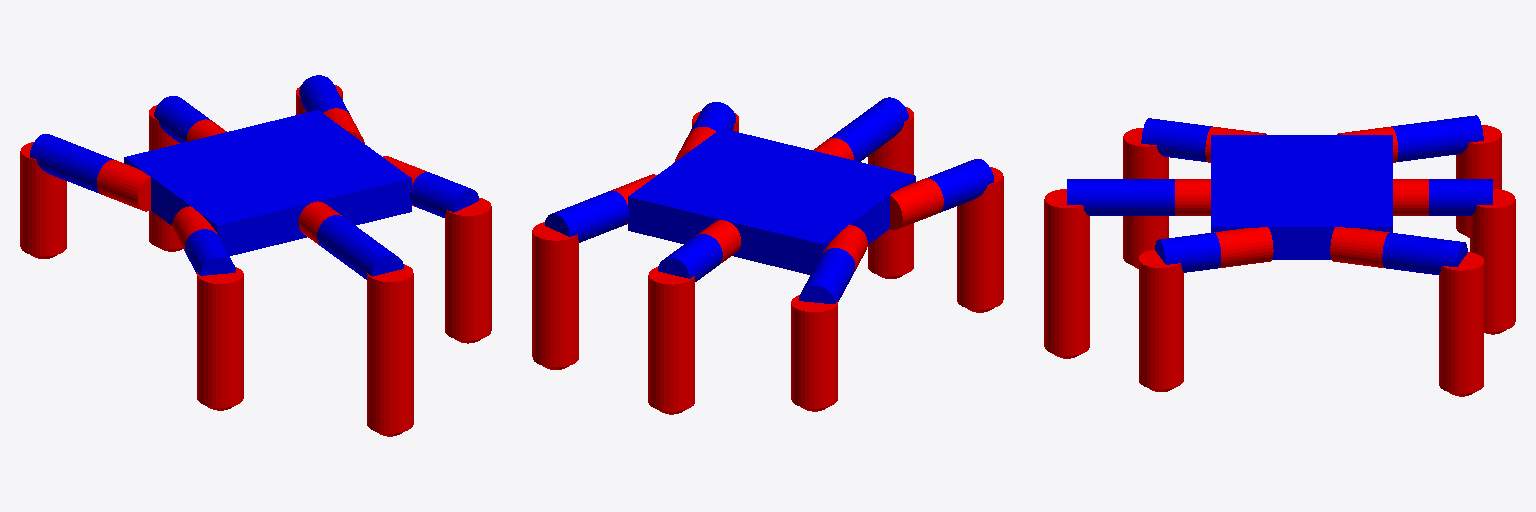
--- What the picture shows (computed from the rendered views, not written in the file) ---
3 views of the same robot in one strip: view 1: azimuth 30°, elevation 25°; view 2: azimuth 150°, elevation 25°; view 3: azimuth 270°, elevation 25° (orthographic).
Robot: pexod — 19 links, 18 joints (18 revolute); root link base_link; default pose: all joints at 0.
Links seen in each view (by area): view 1: base_link, leg_4_3, leg_3_3, leg_5_3, leg_0_3, leg_4_2, leg_0_2, leg_3_2, leg_0_1, leg_5_2, leg_1_3, leg_1_2 (+3 smaller); view 2: base_link, leg_1_3, leg_2_3, leg_5_3, leg_0_3, leg_4_3, leg_2_2, leg_4_2, leg_0_2, leg_5_1, leg_5_2, leg_1_2 (+3 smaller); view 3: base_link, leg_4_3, leg_2_3, leg_3_3, leg_1_3, leg_4_2, leg_5_3, leg_0_2, leg_2_2, leg_0_3, leg_1_2, leg_5_2 (+5 smaller).
Link boxes in pixels (<box>): base_link: <box>124,110,411,255</box>; leg_4_3: <box>367,264,413,436</box>; leg_3_3: <box>445,198,491,343</box>; leg_5_3: <box>197,267,243,410</box>; leg_0_3: <box>20,142,66,258</box>; leg_4_2: <box>317,215,403,279</box>; leg_0_2: <box>30,134,113,194</box>; leg_3_2: <box>410,172,478,217</box>; leg_0_1: <box>97,160,150,211</box>; leg_5_2: <box>185,229,235,275</box>; leg_1_3: <box>149,105,182,251</box>; leg_1_2: <box>154,96,211,142</box>; base_link: <box>628,128,915,274</box>; leg_1_3: <box>648,267,694,414</box>; leg_2_3: <box>532,222,578,369</box>; leg_5_3: <box>957,167,1003,312</box>; leg_0_3: <box>791,295,837,411</box>; leg_4_3: <box>868,107,913,278</box>; leg_2_2: <box>545,191,628,242</box>; leg_4_2: <box>827,97,908,161</box>; leg_0_2: <box>799,248,854,303</box>; leg_5_1: <box>890,178,943,229</box>; leg_5_2: <box>928,159,993,212</box>; leg_1_2: <box>658,234,722,281</box>; base_link: <box>1211,135,1392,259</box>; leg_4_3: <box>1044,189,1089,358</box>; leg_2_3: <box>1439,252,1483,396</box>; leg_3_3: <box>1139,249,1183,391</box>; leg_1_3: <box>1470,189,1515,334</box>; leg_4_2: <box>1067,179,1174,215</box>; leg_5_3: <box>1123,128,1168,268</box>; leg_0_2: <box>1391,115,1483,162</box>; leg_2_2: <box>1382,232,1467,274</box>; leg_0_3: <box>1456,125,1501,237</box>; leg_1_2: <box>1429,179,1492,215</box>; leg_5_2: <box>1141,118,1212,161</box>.
Size in the robot's own frame: 0.3796 by 0.5177 by 0.2118 metres.
Geometry: primitives only (box / cylinder / sphere), no mesh files.

URDF robot description (pexod):
<?xml version="1.0" ?>
<!-- =================================================================================== -->
<!-- |    This document was autogenerated by xacro from pexod.xacro                    | -->
<!-- |    EDITING THIS FILE BY HAND IS NOT RECOMMENDED                                 | -->
<!-- =================================================================================== -->
<robot name="pexod" xmlns:xacro="http://www.ros.org/wiki/xacro">
  <!-- <xacro:include filename="$(find pexod_description)/urdf/pexod_control.xacro" /> -->
  <!-- MATERIALS -->
  <material name="Blue">
    <color rgba="0 0 1 1"/>
  </material>
  <material name="Red">
    <color rgba="1 0 0 1"/>
  </material>
  <material name="Green">
    <color rgba="0 1 0 1"/>
  </material>
  <material name="Yellow">
    <color rgba="1 1 0 1"/>
  </material>
  <material name="LightGrey">
    <color rgba="0.6 0.6 0.6 1.0"/>
  </material>
  <!-- END OF MATERIALS -->
  <!-- XACRO MACROS FOR VISUALS AND COLLISIONS -->
  <!-- END OF XACRO MACROS -->
  <!-- TORSO -->
  <link name="base_link">
    <visual>
      <origin rpy="0 0 0" xyz="0 0 0"/>
      <geometry>
        <box size="0.24 0.2 0.04"/>
      </geometry>
      <material name="Blue"/>
    </visual>
    <collision>
      <origin rpy="0 0 0" xyz="0 0 0"/>
      <geometry>
        <box size="0.24 0.2 0.04"/>
      </geometry>
    </collision>
    <inertial>
      <!-- CENTER OF MASS -->
      <origin rpy="0 0 0" xyz="0 0 0"/>
      <mass value="1.031"/>
      <!-- box inertia: 1/12*m(y^2+z^2), ... -->
      <inertia ixx="0.00357413333333" ixy="0" ixz="0" iyy="0.00508626666667" iyz="0" izz="0.00838546666667"/>
    </inertial>
  </link>
  <!-- XACRO MACRO FOR LEGS LINKS/JOINTS -->
  <!-- END OF LEG LINKS/JOINTS -->
  <joint name="body_leg_2" type="revolute">
    <parent link="base_link"/>
    <child link="leg_2_1"/>
    <limit effort="30.0" lower="-1.57079632679" upper="1.57079632679" velocity="7.0"/>
    <origin rpy="0 0 -0.3" xyz="0.11 0.04 0"/>
    <!-- <xacro:if value="${index == 5 or index == 4 or index == 3}">
                <axis xyz="0 0 1"/>
            </xacro:if>
            <xacro:if value="${index == 2 or index == 1 or index == 0}"> -->
    <axis xyz="0 0 1"/>
    <!-- </xacro:if> -->
    <dynamics damping="0.0"/>
  </joint>
  <link name="leg_2_1">
    <visual>
      <origin rpy="1.57079632679 0 0" xyz="0.01 0.03 0"/>
      <geometry>
        <cylinder length="0.06" radius="0.02"/>
      </geometry>
      <material name="Red"/>
    </visual>
    <collision>
      <origin rpy="1.57079632679 0 0" xyz="0.01 0.03 0"/>
      <geometry>
        <box size="0.02 0.02 0.06"/>
      </geometry>
    </collision>
    <inertial>
      <!-- CENTER OF MASS -->
      <origin rpy="1.57079632679 0 0" xyz="0.01 0.03 0"/>
      <mass value="0.02"/>
      <!-- box inertia: 1/12*m(y^2+z^2), ... -->
      <inertia ixx="6.66666666667e-06" ixy="0" ixz="0" iyy="6.66666666667e-06" iyz="0" izz="1.33333333333e-06"/>
    </inertial>
  </link>
  <joint name="leg_2_1_2" type="revolute">
    <parent link="leg_2_1"/>
    <child link="leg_2_2"/>
    <limit effort="30.0" lower="-0.78539816339" upper="0.78539816339" velocity="7.0"/>
    <origin rpy="0 0 0" xyz="0 0.06 0"/>
    <axis xyz="1 0 0"/>
    <dynamics damping="0.0"/>
  </joint>
  <link name="leg_2_2">
    <visual>
      <origin rpy="1.57079632679 0 0" xyz="0.01 0.0429631675576 0"/>
      <geometry>
        <cylinder length="0.0859263351152" radius="0.02"/>
      </geometry>
      <material name="Blue"/>
    </visual>
    <collision>
      <origin rpy="1.57079632679 0 0" xyz="0.01 0.0429631675576 0"/>
      <geometry>
        <box size="0.02 0.02 0.0859263351152"/>
      </geometry>
    </collision>
    <inertial>
      <!-- CENTER OF MASS -->
      <origin rpy="1.57079632679 0 0" xyz="0.01 0.0429631675576 0"/>
      <mass value="0.184"/>
      <!-- box inertia: 1/12*m(y^2+z^2), ... -->
      <inertia ixx="0.000119344471017" ixy="0" ixz="0" iyy="0.000119344471017" iyz="0" izz="1.22666666667e-05"/>
    </inertial>
  </link>
  <joint name="leg_2_2_3" type="revolute">
    <parent link="leg_2_2"/>
    <child link="leg_2_3"/>
    <limit effort="30.0" lower="-0.78539816339" upper="0.78539816339" velocity="7.0"/>
    <origin rpy="-1.57079632679 0 0" xyz="0 0.0859263351152 0"/>
    <axis xyz="-1 0 0"/>
    <dynamics damping="0.0"/>
  </joint>
  <link name="leg_2_3">
    <visual>
      <origin rpy="1.57079632679 0 0" xyz="0.0125 0.0746821064615 0"/>
      <geometry>
        <cylinder length="0.149364212923" radius="0.025"/>
      </geometry>
      <material name="Red"/>
    </visual>
    <visual>
      <origin rpy="1.57079632679 0 0" xyz="0.0125 0.136864212923 0"/>
      <geometry>
        <sphere radius="0.025"/>
      </geometry>
      <material name="Red"/>
    </visual>
    <collision>
      <origin rpy="1.57079632679 0 0" xyz="0.0125 0.0746821064615 0"/>
      <geometry>
        <box size="0.025 0.025 0.149364212923"/>
      </geometry>
    </collision>
    <collision>
      <origin rpy="1.57079632679 0 0" xyz="0.0125 0.136864212923 0"/>
      <geometry>
        <sphere radius="0.025"/>
      </geometry>
      <material name="Red"/>
    </collision>
    <inertial>
      <!-- CENTER OF MASS -->
      <origin rpy="1.57079632679 0 0" xyz="0.0125 0.0746821064615 0"/>
      <mass value="0.04"/>
      <!-- box inertia: 1/12*m(y^2+z^2), ... -->
      <inertia ixx="7.64488936737e-05" ixy="0" ixz="0" iyy="7.64488936737e-05" iyz="0" izz="4.16666666667e-06"/>
    </inertial>
  </link>
  <joint name="body_leg_3" type="revolute">
    <parent link="base_link"/>
    <child link="leg_3_1"/>
    <limit effort="30.0" lower="-1.57079632679" upper="1.57079632679" velocity="7.0"/>
    <origin rpy="0 0 0.3" xyz="0.11 -0.04 0"/>
    <!-- <xacro:if value="${index == 5 or index == 4 or index == 3}">
                <axis xyz="0 0 1"/>
            </xacro:if>
            <xacro:if value="${index == 2 or index == 1 or index == 0}"> -->
    <axis xyz="0 0 1"/>
    <!-- </xacro:if> -->
    <dynamics damping="0.0"/>
  </joint>
  <link name="leg_3_1">
    <visual>
      <origin rpy="1.57079632679 0 0" xyz="0.01 -0.03 0"/>
      <geometry>
        <cylinder length="0.06" radius="0.02"/>
      </geometry>
      <material name="Red"/>
    </visual>
    <collision>
      <origin rpy="1.57079632679 0 0" xyz="0.01 -0.03 0"/>
      <geometry>
        <box size="0.02 0.02 0.06"/>
      </geometry>
    </collision>
    <inertial>
      <!-- CENTER OF MASS -->
      <origin rpy="1.57079632679 0 0" xyz="0.01 -0.03 0"/>
      <mass value="0.02"/>
      <!-- box inertia: 1/12*m(y^2+z^2), ... -->
      <inertia ixx="6.66666666667e-06" ixy="0" ixz="0" iyy="6.66666666667e-06" iyz="0" izz="1.33333333333e-06"/>
    </inertial>
  </link>
  <joint name="leg_3_1_2" type="revolute">
    <parent link="leg_3_1"/>
    <child link="leg_3_2"/>
    <limit effort="30.0" lower="-0.78539816339" upper="0.78539816339" velocity="7.0"/>
    <origin rpy="0 0 0" xyz="0 -0.06 0"/>
    <axis xyz="-1 0 0"/>
    <dynamics damping="0.0"/>
  </joint>
  <link name="leg_3_2">
    <visual>
      <origin rpy="1.57079632679 0 0" xyz="0.01 -0.0319256583506 0"/>
      <geometry>
        <cylinder length="0.0638513167012" radius="0.02"/>
      </geometry>
      <material name="Blue"/>
    </visual>
    <collision>
      <origin rpy="1.57079632679 0 0" xyz="0.01 -0.0319256583506 0"/>
      <geometry>
        <box size="0.02 0.02 0.0638513167012"/>
      </geometry>
    </collision>
    <inertial>
      <!-- CENTER OF MASS -->
      <origin rpy="1.57079632679 0 0" xyz="0.01 -0.0319256583506 0"/>
      <mass value="0.184"/>
      <!-- box inertia: 1/12*m(y^2+z^2), ... -->
      <inertia ixx="6.8647189882e-05" ixy="0" ixz="0" iyy="6.8647189882e-05" iyz="0" izz="1.22666666667e-05"/>
    </inertial>
  </link>
  <joint name="leg_3_2_3" type="revolute">
    <parent link="leg_3_2"/>
    <child link="leg_3_3"/>
    <limit effort="30.0" lower="-0.78539816339" upper="0.78539816339" velocity="7.0"/>
    <origin rpy="1.57079632679 0 0" xyz="0 -0.0638513167012 0"/>
    <axis xyz="1 0 0"/>
    <dynamics damping="0.0"/>
  </joint>
  <link name="leg_3_3">
    <visual>
      <origin rpy="1.57079632679 0 0" xyz="0.0125 -0.073640077298 0"/>
      <geometry>
        <cylinder length="0.147280154596" radius="0.025"/>
      </geometry>
      <material name="Red"/>
    </visual>
    <visual>
      <origin rpy="1.57079632679 0 0" xyz="0.0125 -0.134780154596 0"/>
      <geometry>
        <sphere radius="0.025"/>
      </geometry>
      <material name="Red"/>
    </visual>
    <collision>
      <origin rpy="1.57079632679 0 0" xyz="0.0125 -0.073640077298 0"/>
      <geometry>
        <box size="0.025 0.025 0.147280154596"/>
      </geometry>
    </collision>
    <collision>
      <origin rpy="1.57079632679 0 0" xyz="0.0125 -0.134780154596 0"/>
      <geometry>
        <sphere radius="0.025"/>
      </geometry>
      <material name="Red"/>
    </collision>
    <inertial>
      <!-- CENTER OF MASS -->
      <origin rpy="1.57079632679 0 0" xyz="0.0125 -0.073640077298 0"/>
      <mass value="0.04"/>
      <!-- box inertia: 1/12*m(y^2+z^2), ... -->
      <inertia ixx="7.43881464594e-05" ixy="0" ixz="0" iyy="7.43881464594e-05" iyz="0" izz="4.16666666667e-06"/>
    </inertial>
  </link>
  <joint name="body_leg_0" type="revolute">
    <parent link="base_link"/>
    <child link="leg_0_1"/>
    <limit effort="30.0" lower="-1.57079632679" upper="1.57079632679" velocity="7.0"/>
    <origin rpy="0 0 0.3" xyz="-0.13 0.04 0"/>
    <!-- <xacro:if value="${index == 5 or index == 4 or index == 3}">
                <axis xyz="0 0 1"/>
            </xacro:if>
            <xacro:if value="${index == 2 or index == 1 or index == 0}"> -->
    <axis xyz="0 0 1"/>
    <!-- </xacro:if> -->
    <dynamics damping="0.0"/>
  </joint>
  <link name="leg_0_1">
    <visual>
      <origin rpy="1.57079632679 0 0" xyz="0.01 0.03 0"/>
      <geometry>
        <cylinder length="0.06" radius="0.02"/>
      </geometry>
      <material name="Red"/>
    </visual>
    <collision>
      <origin rpy="1.57079632679 0 0" xyz="0.01 0.03 0"/>
      <geometry>
        <box size="0.02 0.02 0.06"/>
      </geometry>
    </collision>
    <inertial>
      <!-- CENTER OF MASS -->
      <origin rpy="1.57079632679 0 0" xyz="0.01 0.03 0"/>
      <mass value="0.02"/>
      <!-- box inertia: 1/12*m(y^2+z^2), ... -->
      <inertia ixx="6.66666666667e-06" ixy="0" ixz="0" iyy="6.66666666667e-06" iyz="0" izz="1.33333333333e-06"/>
    </inertial>
  </link>
  <joint name="leg_0_1_2" type="revolute">
    <parent link="leg_0_1"/>
    <child link="leg_0_2"/>
    <limit effort="30.0" lower="-0.78539816339" upper="0.78539816339" velocity="7.0"/>
    <origin rpy="0 0 0" xyz="0 0.06 0"/>
    <axis xyz="1 0 0"/>
    <dynamics damping="0.0"/>
  </joint>
  <link name="leg_0_2">
    <visual>
      <origin rpy="1.57079632679 0 0" xyz="0.01 0.0489859718489 0"/>
      <geometry>
        <cylinder length="0.0979719436977" radius="0.02"/>
      </geometry>
      <material name="Blue"/>
    </visual>
    <collision>
      <origin rpy="1.57079632679 0 0" xyz="0.01 0.0489859718489 0"/>
      <geometry>
        <box size="0.02 0.02 0.0979719436977"/>
      </geometry>
    </collision>
    <inertial>
      <!-- CENTER OF MASS -->
      <origin rpy="1.57079632679 0 0" xyz="0.01 0.0489859718489 0"/>
      <mass value="0.184"/>
      <!-- box inertia: 1/12*m(y^2+z^2), ... -->
      <inertia ixx="0.000153310360196" ixy="0" ixz="0" iyy="0.000153310360196" iyz="0" izz="1.22666666667e-05"/>
    </inertial>
  </link>
  <joint name="leg_0_2_3" type="revolute">
    <parent link="leg_0_2"/>
    <child link="leg_0_3"/>
    <limit effort="30.0" lower="-0.78539816339" upper="0.78539816339" velocity="7.0"/>
    <origin rpy="-1.57079632679 0 0" xyz="0 0.0979719436977 0"/>
    <axis xyz="-1 0 0"/>
    <dynamics damping="0.0"/>
  </joint>
  <link name="leg_0_3">
    <visual>
      <origin rpy="1.57079632679 0 0" xyz="0.0125 0.0567628759565 0"/>
      <geometry>
        <cylinder length="0.113525751913" radius="0.025"/>
      </geometry>
      <material name="Red"/>
    </visual>
    <visual>
      <origin rpy="1.57079632679 0 0" xyz="0.0125 0.101025751913 0"/>
      <geometry>
        <sphere radius="0.025"/>
      </geometry>
      <material name="Red"/>
    </visual>
    <collision>
      <origin rpy="1.57079632679 0 0" xyz="0.0125 0.0567628759565 0"/>
      <geometry>
        <box size="0.025 0.025 0.113525751913"/>
      </geometry>
    </collision>
    <collision>
      <origin rpy="1.57079632679 0 0" xyz="0.0125 0.101025751913 0"/>
      <geometry>
        <sphere radius="0.025"/>
      </geometry>
      <material name="Red"/>
    </collision>
    <inertial>
      <!-- CENTER OF MASS -->
      <origin rpy="1.57079632679 0 0" xyz="0.0125 0.0567628759565 0"/>
      <mass value="0.04"/>
      <!-- box inertia: 1/12*m(y^2+z^2), ... -->
      <inertia ixx="4.50436544914e-05" ixy="0" ixz="0" iyy="4.50436544914e-05" iyz="0" izz="4.16666666667e-06"/>
    </inertial>
  </link>
  <joint name="body_leg_5" type="revolute">
    <parent link="base_link"/>
    <child link="leg_5_1"/>
    <limit effort="30.0" lower="-1.57079632679" upper="1.57079632679" velocity="7.0"/>
    <origin rpy="0 0 -0.3" xyz="-0.13 -0.04 0"/>
    <!-- <xacro:if value="${index == 5 or index == 4 or index == 3}">
                <axis xyz="0 0 1"/>
            </xacro:if>
            <xacro:if value="${index == 2 or index == 1 or index == 0}"> -->
    <axis xyz="0 0 1"/>
    <!-- </xacro:if> -->
    <dynamics damping="0.0"/>
  </joint>
  <link name="leg_5_1">
    <visual>
      <origin rpy="1.57079632679 0 0" xyz="0.01 -0.03 0"/>
      <geometry>
        <cylinder length="0.06" radius="0.02"/>
      </geometry>
      <material name="Red"/>
    </visual>
    <collision>
      <origin rpy="1.57079632679 0 0" xyz="0.01 -0.03 0"/>
      <geometry>
        <box size="0.02 0.02 0.06"/>
      </geometry>
    </collision>
    <inertial>
      <!-- CENTER OF MASS -->
      <origin rpy="1.57079632679 0 0" xyz="0.01 -0.03 0"/>
      <mass value="0.02"/>
      <!-- box inertia: 1/12*m(y^2+z^2), ... -->
      <inertia ixx="6.66666666667e-06" ixy="0" ixz="0" iyy="6.66666666667e-06" iyz="0" izz="1.33333333333e-06"/>
    </inertial>
  </link>
  <joint name="leg_5_1_2" type="revolute">
    <parent link="leg_5_1"/>
    <child link="leg_5_2"/>
    <limit effort="30.0" lower="-0.78539816339" upper="0.78539816339" velocity="7.0"/>
    <origin rpy="0 0 0" xyz="0 -0.06 0"/>
    <axis xyz="-1 0 0"/>
    <dynamics damping="0.0"/>
  </joint>
  <link name="leg_5_2">
    <visual>
      <origin rpy="1.57079632679 0 0" xyz="0.01 -0.0367562003448 0"/>
      <geometry>
        <cylinder length="0.0735124006896" radius="0.02"/>
      </geometry>
      <material name="Blue"/>
    </visual>
    <collision>
      <origin rpy="1.57079632679 0 0" xyz="0.01 -0.0367562003448 0"/>
      <geometry>
        <box size="0.02 0.02 0.0735124006896"/>
      </geometry>
    </collision>
    <inertial>
      <!-- CENTER OF MASS -->
      <origin rpy="1.57079632679 0 0" xyz="0.01 -0.0367562003448 0"/>
      <mass value="0.184"/>
      <!-- box inertia: 1/12*m(y^2+z^2), ... -->
      <inertia ixx="8.89957868456e-05" ixy="0" ixz="0" iyy="8.89957868456e-05" iyz="0" izz="1.22666666667e-05"/>
    </inertial>
  </link>
  <joint name="leg_5_2_3" type="revolute">
    <parent link="leg_5_2"/>
    <child link="leg_5_3"/>
    <limit effort="30.0" lower="-0.78539816339" upper="0.78539816339" velocity="7.0"/>
    <origin rpy="1.57079632679 0 0" xyz="0 -0.0735124006896 0"/>
    <axis xyz="1 0 0"/>
    <dynamics damping="0.0"/>
  </joint>
  <link name="leg_5_3">
    <visual>
      <origin rpy="1.57079632679 0 0" xyz="0.0125 -0.073246228276 0"/>
      <geometry>
        <cylinder length="0.146492456552" radius="0.025"/>
      </geometry>
      <material name="Red"/>
    </visual>
    <visual>
      <origin rpy="1.57079632679 0 0" xyz="0.0125 -0.133992456552 0"/>
      <geometry>
        <sphere radius="0.025"/>
      </geometry>
      <material name="Red"/>
    </visual>
    <collision>
      <origin rpy="1.57079632679 0 0" xyz="0.0125 -0.073246228276 0"/>
      <geometry>
        <box size="0.025 0.025 0.146492456552"/>
      </geometry>
    </collision>
    <collision>
      <origin rpy="1.57079632679 0 0" xyz="0.0125 -0.133992456552 0"/>
      <geometry>
        <sphere radius="0.025"/>
      </geometry>
      <material name="Red"/>
    </collision>
    <inertial>
      <!-- CENTER OF MASS -->
      <origin rpy="1.57079632679 0 0" xyz="0.0125 -0.073246228276 0"/>
      <mass value="0.04"/>
      <!-- box inertia: 1/12*m(y^2+z^2), ... -->
      <inertia ixx="7.36167994221e-05" ixy="0" ixz="0" iyy="7.36167994221e-05" iyz="0" izz="4.16666666667e-06"/>
    </inertial>
  </link>
  <joint name="body_leg_1" type="revolute">
    <parent link="base_link"/>
    <child link="leg_1_1"/>
    <limit effort="30.0" lower="-1.57079632679" upper="1.57079632679" velocity="7.0"/>
    <origin rpy="0 0 0" xyz="-0.01 0.08 0"/>
    <!-- <xacro:if value="${index == 5 or index == 4 or index == 3}">
                <axis xyz="0 0 1"/>
            </xacro:if>
            <xacro:if value="${index == 2 or index == 1 or index == 0}"> -->
    <axis xyz="0 0 1"/>
    <!-- </xacro:if> -->
    <dynamics damping="0.0"/>
  </joint>
  <link name="leg_1_1">
    <visual>
      <origin rpy="1.57079632679 0 0" xyz="0.01 0.03 0"/>
      <geometry>
        <cylinder length="0.06" radius="0.02"/>
      </geometry>
      <material name="Red"/>
    </visual>
    <collision>
      <origin rpy="1.57079632679 0 0" xyz="0.01 0.03 0"/>
      <geometry>
        <box size="0.02 0.02 0.06"/>
      </geometry>
    </collision>
    <inertial>
      <!-- CENTER OF MASS -->
      <origin rpy="1.57079632679 0 0" xyz="0.01 0.03 0"/>
      <mass value="0.02"/>
      <!-- box inertia: 1/12*m(y^2+z^2), ... -->
      <inertia ixx="6.66666666667e-06" ixy="0" ixz="0" iyy="6.66666666667e-06" iyz="0" izz="1.33333333333e-06"/>
    </inertial>
  </link>
  <joint name="leg_1_1_2" type="revolute">
    <parent link="leg_1_1"/>
    <child link="leg_1_2"/>
    <limit effort="30.0" lower="-0.78539816339" upper="0.78539816339" velocity="7.0"/>
    <origin rpy="0 0 0" xyz="0 0.06 0"/>
    <axis xyz="1 0 0"/>
    <dynamics damping="0.0"/>
  </joint>
  <link name="leg_1_2">
    <visual>
      <origin rpy="1.57079632679 0 0" xyz="0.01 0.0348861957891 0"/>
      <geometry>
        <cylinder length="0.0697723915781" radius="0.02"/>
      </geometry>
      <material name="Blue"/>
    </visual>
    <collision>
      <origin rpy="1.57079632679 0 0" xyz="0.01 0.0348861957891 0"/>
      <geometry>
        <box size="0.02 0.02 0.0697723915781"/>
      </geometry>
    </collision>
    <inertial>
      <!-- CENTER OF MASS -->
      <origin rpy="1.57079632679 0 0" xyz="0.01 0.0348861957891 0"/>
      <mass value="0.184"/>
      <!-- box inertia: 1/12*m(y^2+z^2), ... -->
      <inertia ixx="8.07788616068e-05" ixy="0" ixz="0" iyy="8.07788616068e-05" iyz="0" izz="1.22666666667e-05"/>
    </inertial>
  </link>
  <joint name="leg_1_2_3" type="revolute">
    <parent link="leg_1_2"/>
    <child link="leg_1_3"/>
    <limit effort="30.0" lower="-0.78539816339" upper="0.78539816339" velocity="7.0"/>
    <origin rpy="-1.57079632679 0 0" xyz="0 0.0697723915781 0"/>
    <axis xyz="-1 0 0"/>
    <dynamics damping="0.0"/>
  </joint>
  <link name="leg_1_3">
    <visual>
      <origin rpy="1.57079632679 0 0" xyz="0.0125 0.074918042621 0"/>
      <geometry>
        <cylinder length="0.149836085242" radius="0.025"/>
      </geometry>
      <material name="Red"/>
    </visual>
    <visual>
      <origin rpy="1.57079632679 0 0" xyz="0.0125 0.137336085242 0"/>
      <geometry>
        <sphere radius="0.025"/>
      </geometry>
      <material name="Red"/>
    </visual>
    <collision>
      <origin rpy="1.57079632679 0 0" xyz="0.0125 0.074918042621 0"/>
      <geometry>
        <box size="0.025 0.025 0.149836085242"/>
      </geometry>
    </collision>
    <collision>
      <origin rpy="1.57079632679 0 0" xyz="0.0125 0.137336085242 0"/>
      <geometry>
        <sphere radius="0.025"/>
      </geometry>
      <material name="Red"/>
    </collision>
    <inertial>
      <!-- CENTER OF MASS -->
      <origin rpy="1.57079632679 0 0" xyz="0.0125 0.074918042621 0"/>
      <mass value="0.04"/>
      <!-- box inertia: 1/12*m(y^2+z^2), ... -->
      <inertia ixx="7.69195081355e-05" ixy="0" ixz="0" iyy="7.69195081355e-05" iyz="0" izz="4.16666666667e-06"/>
    </inertial>
  </link>
  <joint name="body_leg_4" type="revolute">
    <parent link="base_link"/>
    <child link="leg_4_1"/>
    <limit effort="30.0" lower="-1.57079632679" upper="1.57079632679" velocity="7.0"/>
    <origin rpy="0 0 0" xyz="-0.01 -0.08 0"/>
    <!-- <xacro:if value="${index == 5 or index == 4 or index == 3}">
                <axis xyz="0 0 1"/>
            </xacro:if>
            <xacro:if value="${index == 2 or index == 1 or index == 0}"> -->
    <axis xyz="0 0 1"/>
    <!-- </xacro:if> -->
    <dynamics damping="0.0"/>
  </joint>
  <link name="leg_4_1">
    <visual>
      <origin rpy="1.57079632679 0 0" xyz="0.01 -0.03 0"/>
      <geometry>
        <cylinder length="0.06" radius="0.02"/>
      </geometry>
      <material name="Red"/>
    </visual>
    <collision>
      <origin rpy="1.57079632679 0 0" xyz="0.01 -0.03 0"/>
      <geometry>
        <box size="0.02 0.02 0.06"/>
      </geometry>
    </collision>
    <inertial>
      <!-- CENTER OF MASS -->
      <origin rpy="1.57079632679 0 0" xyz="0.01 -0.03 0"/>
      <mass value="0.02"/>
      <!-- box inertia: 1/12*m(y^2+z^2), ... -->
      <inertia ixx="6.66666666667e-06" ixy="0" ixz="0" iyy="6.66666666667e-06" iyz="0" izz="1.33333333333e-06"/>
    </inertial>
  </link>
  <joint name="leg_4_1_2" type="revolute">
    <parent link="leg_4_1"/>
    <child link="leg_4_2"/>
    <limit effort="30.0" lower="-0.78539816339" upper="0.78539816339" velocity="7.0"/>
    <origin rpy="0 0 0" xyz="0 -0.06 0"/>
    <axis xyz="-1 0 0"/>
    <dynamics damping="0.0"/>
  </joint>
  <link name="leg_4_2">
    <visual>
      <origin rpy="1.57079632679 0 0" xyz="0.01 -0.0589451538745 0"/>
      <geometry>
        <cylinder length="0.117890307749" radius="0.02"/>
      </geometry>
      <material name="Blue"/>
    </visual>
    <collision>
      <origin rpy="1.57079632679 0 0" xyz="0.01 -0.0589451538745 0"/>
      <geometry>
        <box size="0.02 0.02 0.117890307749"/>
      </geometry>
    </collision>
    <inertial>
      <!-- CENTER OF MASS -->
      <origin rpy="1.57079632679 0 0" xyz="0.01 -0.0589451538745 0"/>
      <mass value="0.184"/>
      <!-- box inertia: 1/12*m(y^2+z^2), ... -->
      <inertia ixx="0.000219237911471" ixy="0" ixz="0" iyy="0.000219237911471" iyz="0" izz="1.22666666667e-05"/>
    </inertial>
  </link>
  <joint name="leg_4_2_3" type="revolute">
    <parent link="leg_4_2"/>
    <child link="leg_4_3"/>
    <limit effort="30.0" lower="-0.78539816339" upper="0.78539816339" velocity="7.0"/>
    <origin rpy="1.57079632679 0 0" xyz="0 -0.117890307749 0"/>
    <axis xyz="1 0 0"/>
    <dynamics damping="0.0"/>
  </joint>
  <link name="leg_4_3">
    <visual>
      <origin rpy="1.57079632679 0 0" xyz="0.0125 -0.089653797735 0"/>
      <geometry>
        <cylinder length="0.17930759547" radius="0.025"/>
      </geometry>
      <material name="Red"/>
    </visual>
    <visual>
      <origin rpy="1.57079632679 0 0" xyz="0.0125 -0.16680759547 0"/>
      <geometry>
        <sphere radius="0.025"/>
      </geometry>
      <material name="Red"/>
    </visual>
    <collision>
      <origin rpy="1.57079632679 0 0" xyz="0.0125 -0.089653797735 0"/>
      <geometry>
        <box size="0.025 0.025 0.17930759547"/>
      </geometry>
    </collision>
    <collision>
      <origin rpy="1.57079632679 0 0" xyz="0.0125 -0.16680759547 0"/>
      <geometry>
        <sphere radius="0.025"/>
      </geometry>
      <material name="Red"/>
    </collision>
    <inertial>
      <!-- CENTER OF MASS -->
      <origin rpy="1.57079632679 0 0" xyz="0.0125 -0.089653797735 0"/>
      <mass value="0.04"/>
      <!-- box inertia: 1/12*m(y^2+z^2), ... -->
      <inertia ixx="0.000109254045977" ixy="0" ixz="0" iyy="0.000109254045977" iyz="0" izz="4.16666666667e-06"/>
    </inertial>
  </link>
  <!-- END OF LEG LINKS/JOINTS -->
</robot>
